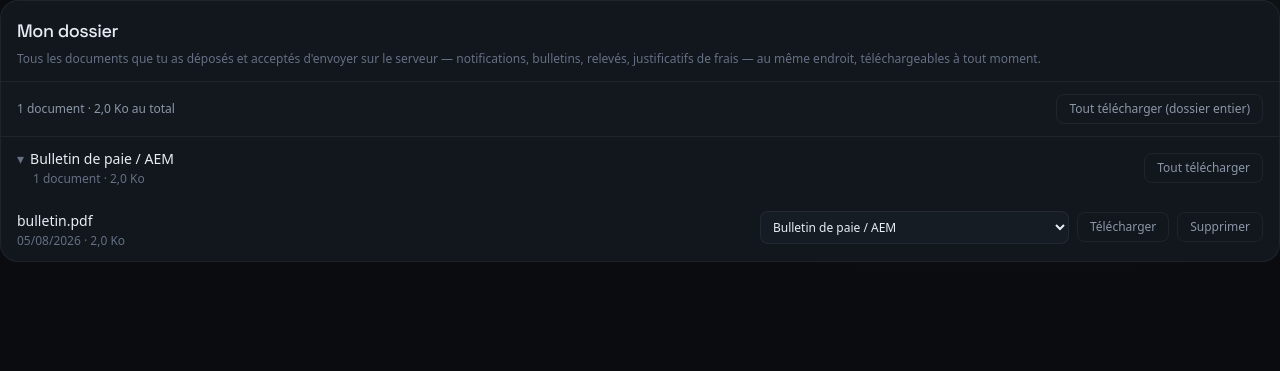
Test case: MonDossier — supprimer un document (07/08/2026) › « Annuler » referme la confirmation sans rien supprimer
Click the button with aria-label "supprimer « bulletin.pdf »" at x=1220, y=227, box [1177, 212, 1263, 242]
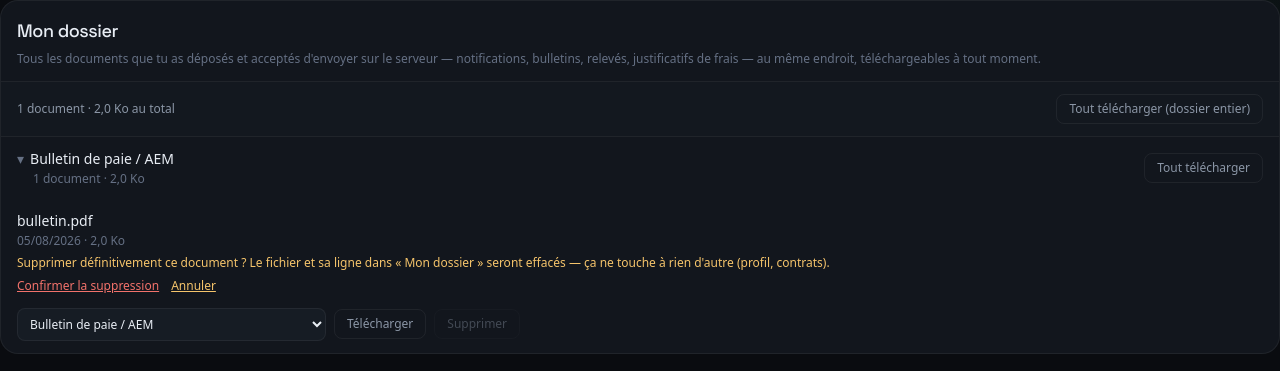
Click the button "Annuler" at x=194, y=286, box [171, 276, 216, 296]
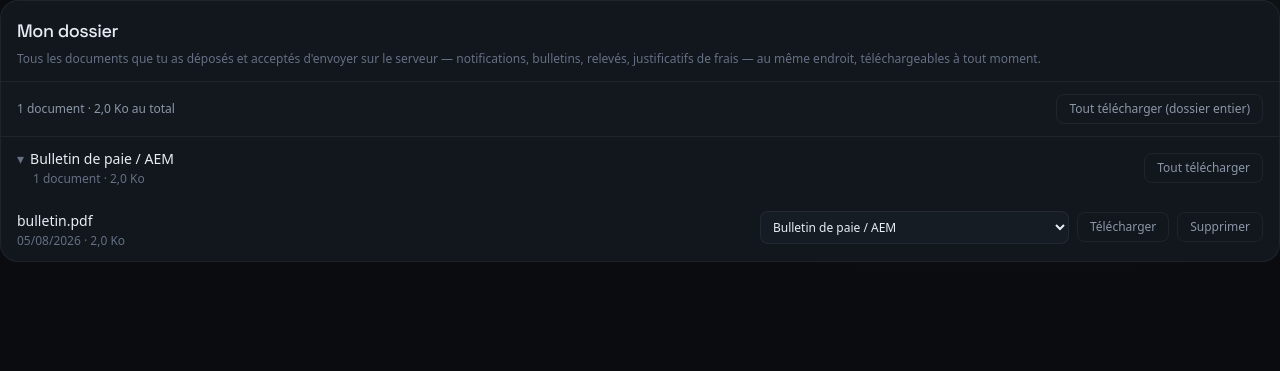
Expected: the text "bulletin.pdf" is shown, [17, 210, 92, 230]
Expected: the text "Supprimer définitivement ce document" is gone
